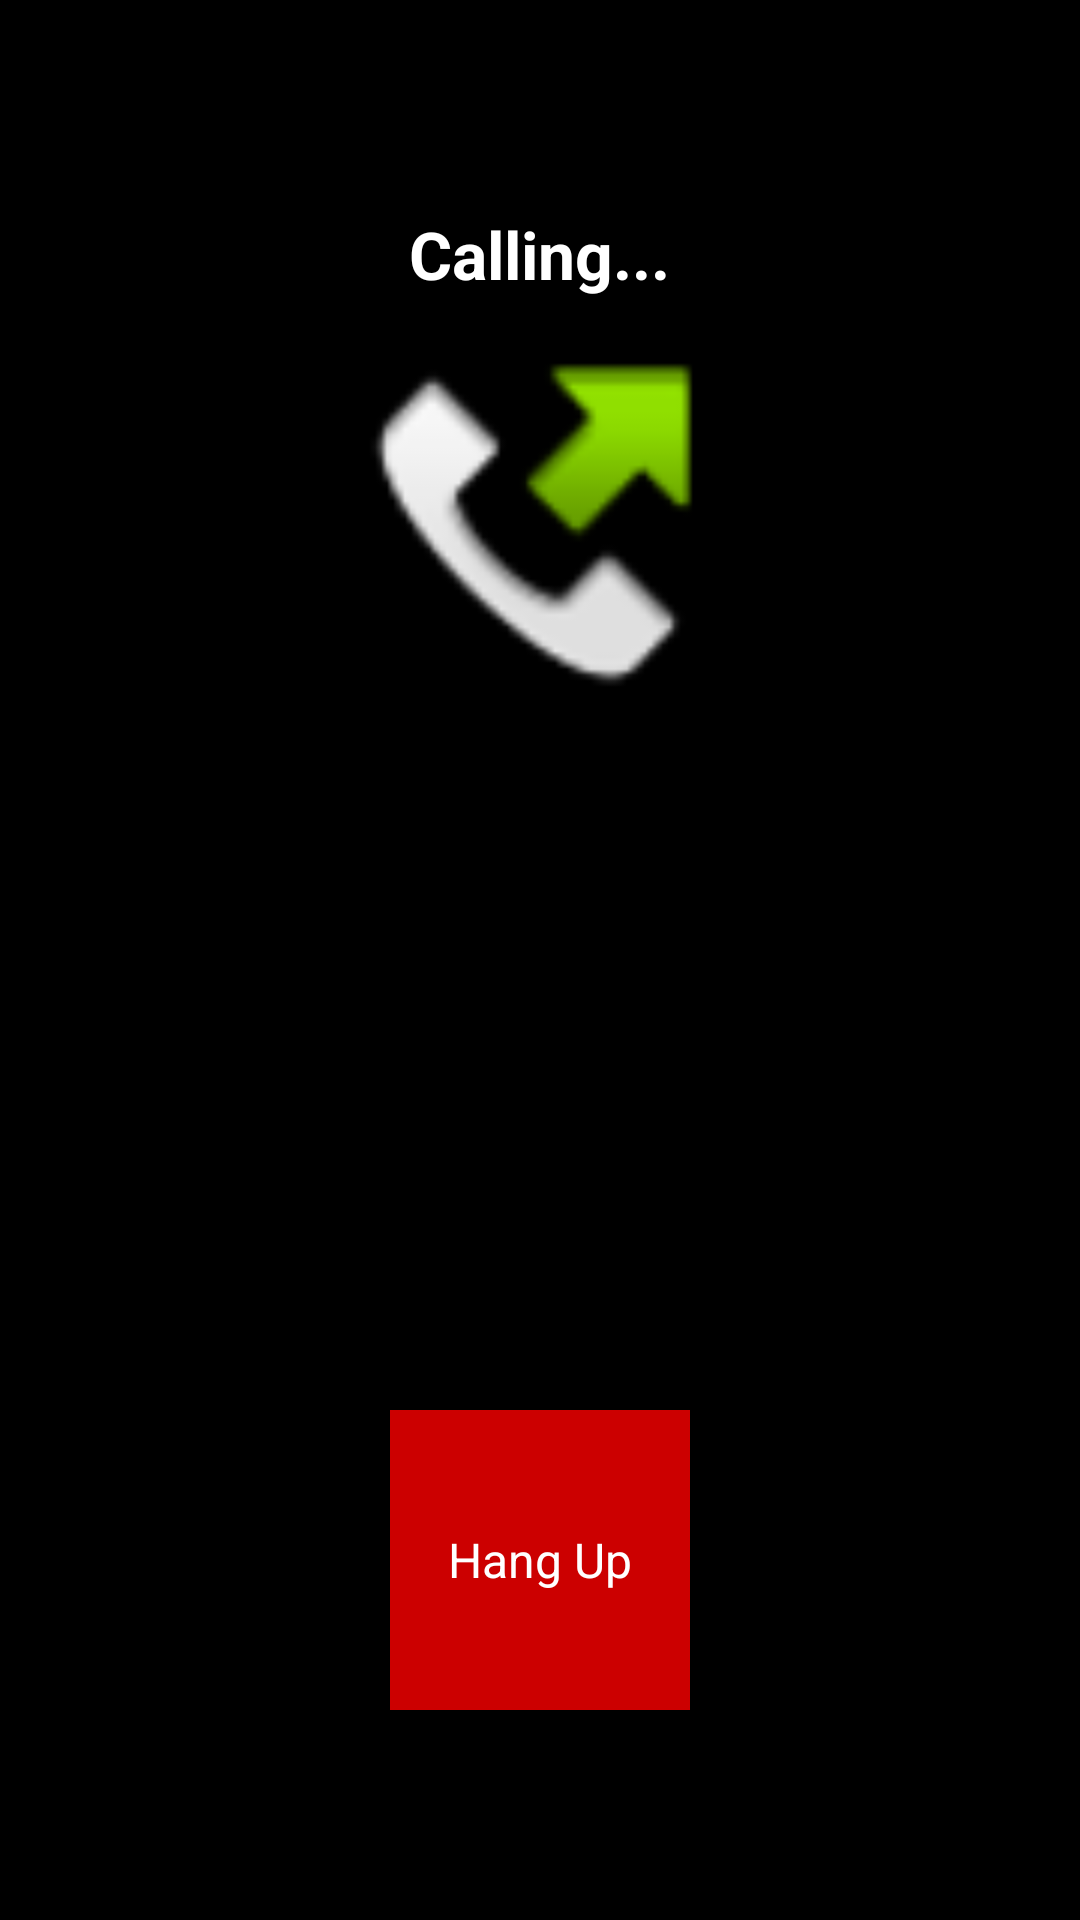

Where icons sit on this 1080px×1920px app screen, as (x1, y1, x2, y2):
sym call outgoing: (376, 364, 692, 682)
